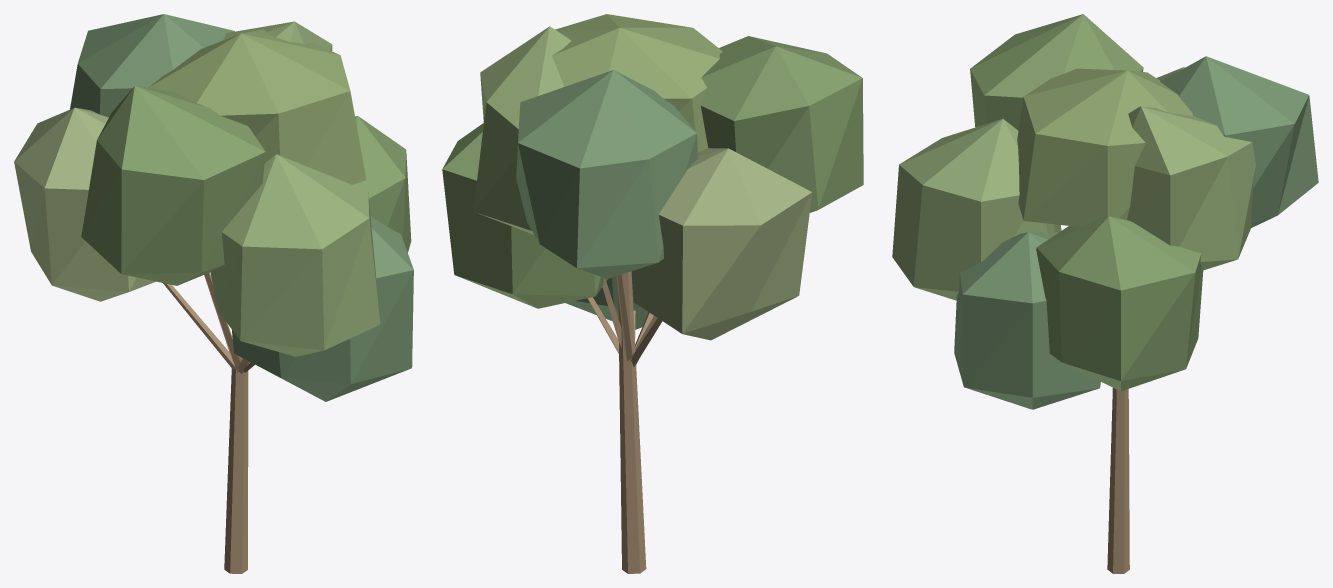
File: tree-0.glb
The picture shows the model from 3 angles, left to right: view 1: azimuth 30°, elevation 25°; view 2: azimuth 150°, elevation 25°; view 3: azimuth 270°, elevation 25°; orthographic projection. The views are drawn at different scales.
Size of the model in its own units: 9.1 by 12.85 by 9.86.
